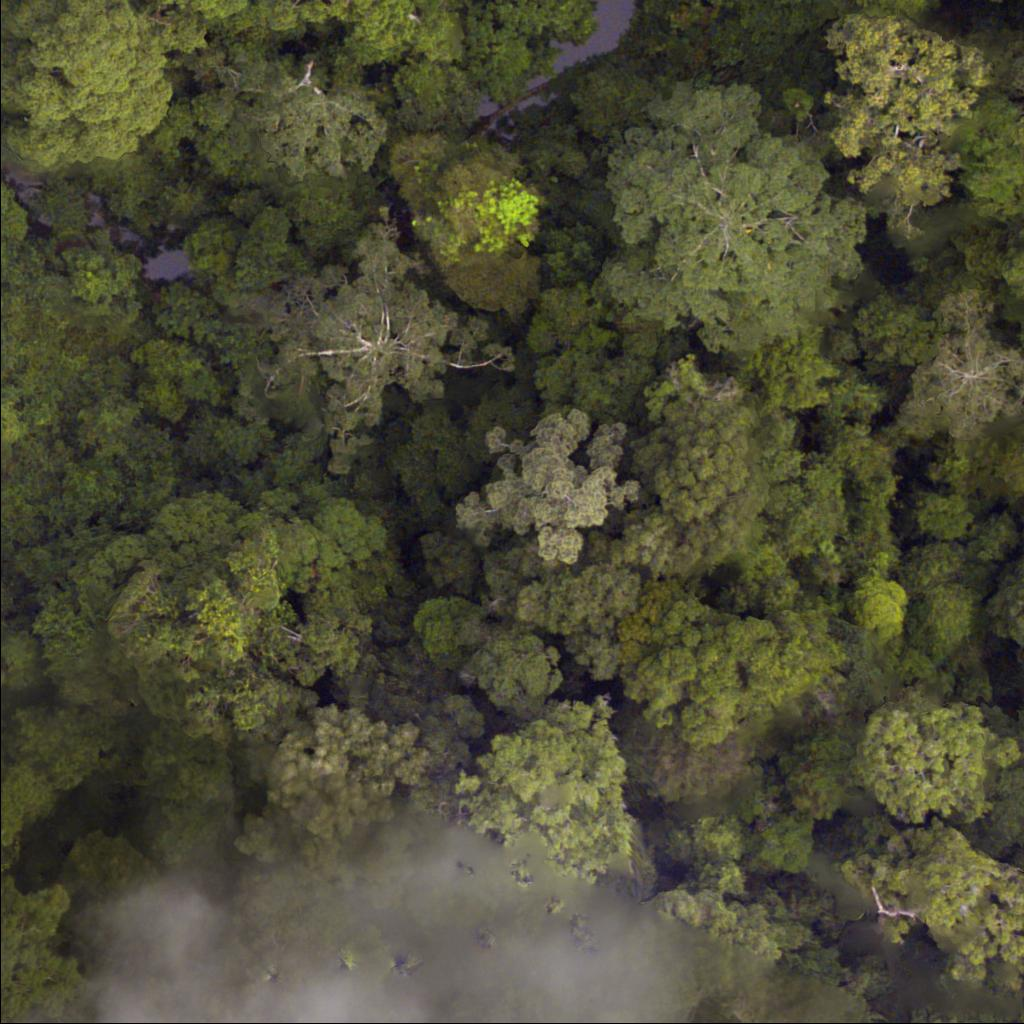crown: (26, 507, 417, 800), (591, 92, 866, 353), (220, 223, 498, 480), (459, 716, 649, 927), (0, 0, 206, 168), (624, 388, 786, 587), (610, 604, 840, 741), (391, 140, 557, 320), (461, 411, 649, 566), (859, 699, 1016, 834), (0, 810, 96, 1023), (863, 846, 1023, 967), (900, 305, 1023, 431), (973, 580, 1023, 662), (994, 722, 1023, 848), (1010, 1007, 1023, 1023)
